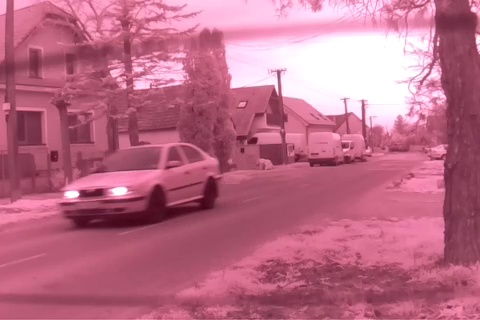car: (58, 142, 227, 219)
